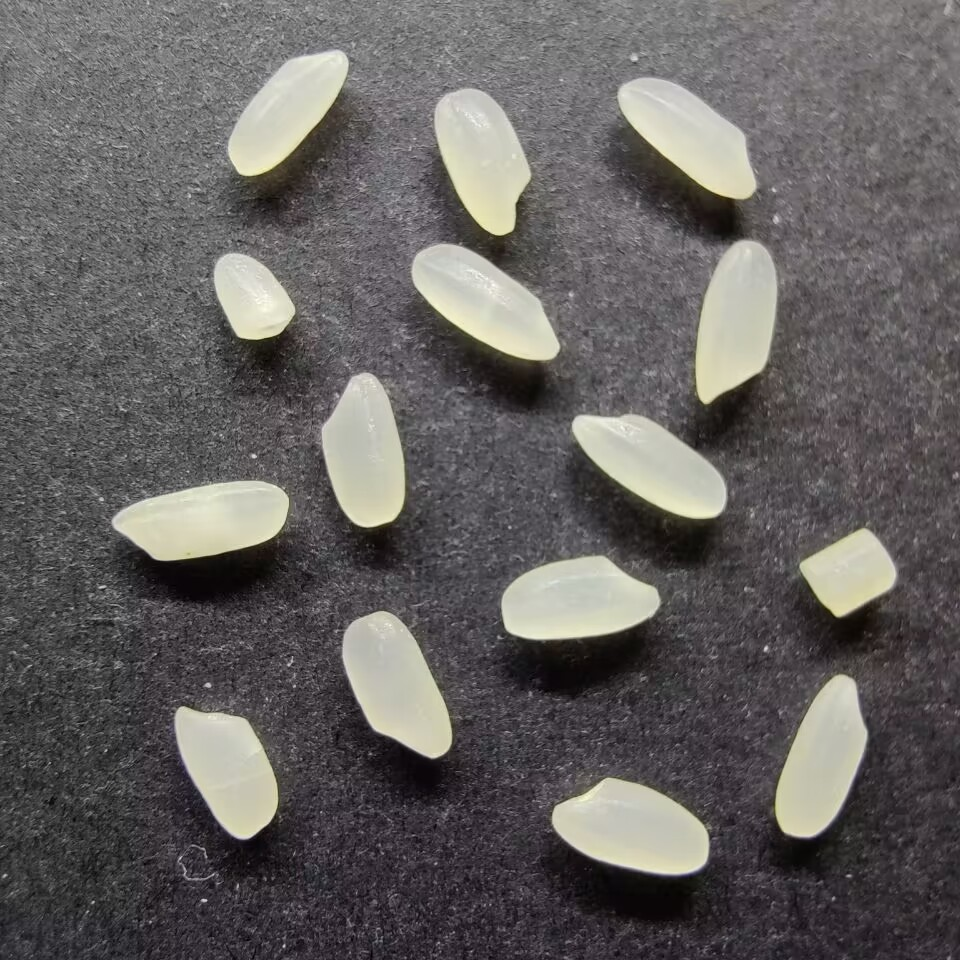broken: (794, 526, 899, 617), (210, 251, 296, 341)
rice: (408, 242, 561, 363), (614, 75, 759, 201), (571, 410, 729, 520), (340, 610, 454, 758), (772, 672, 872, 840), (225, 47, 351, 177), (550, 775, 710, 875), (433, 87, 534, 239), (170, 704, 281, 842), (108, 478, 290, 562), (694, 238, 779, 407), (499, 554, 662, 641), (318, 371, 406, 528)
